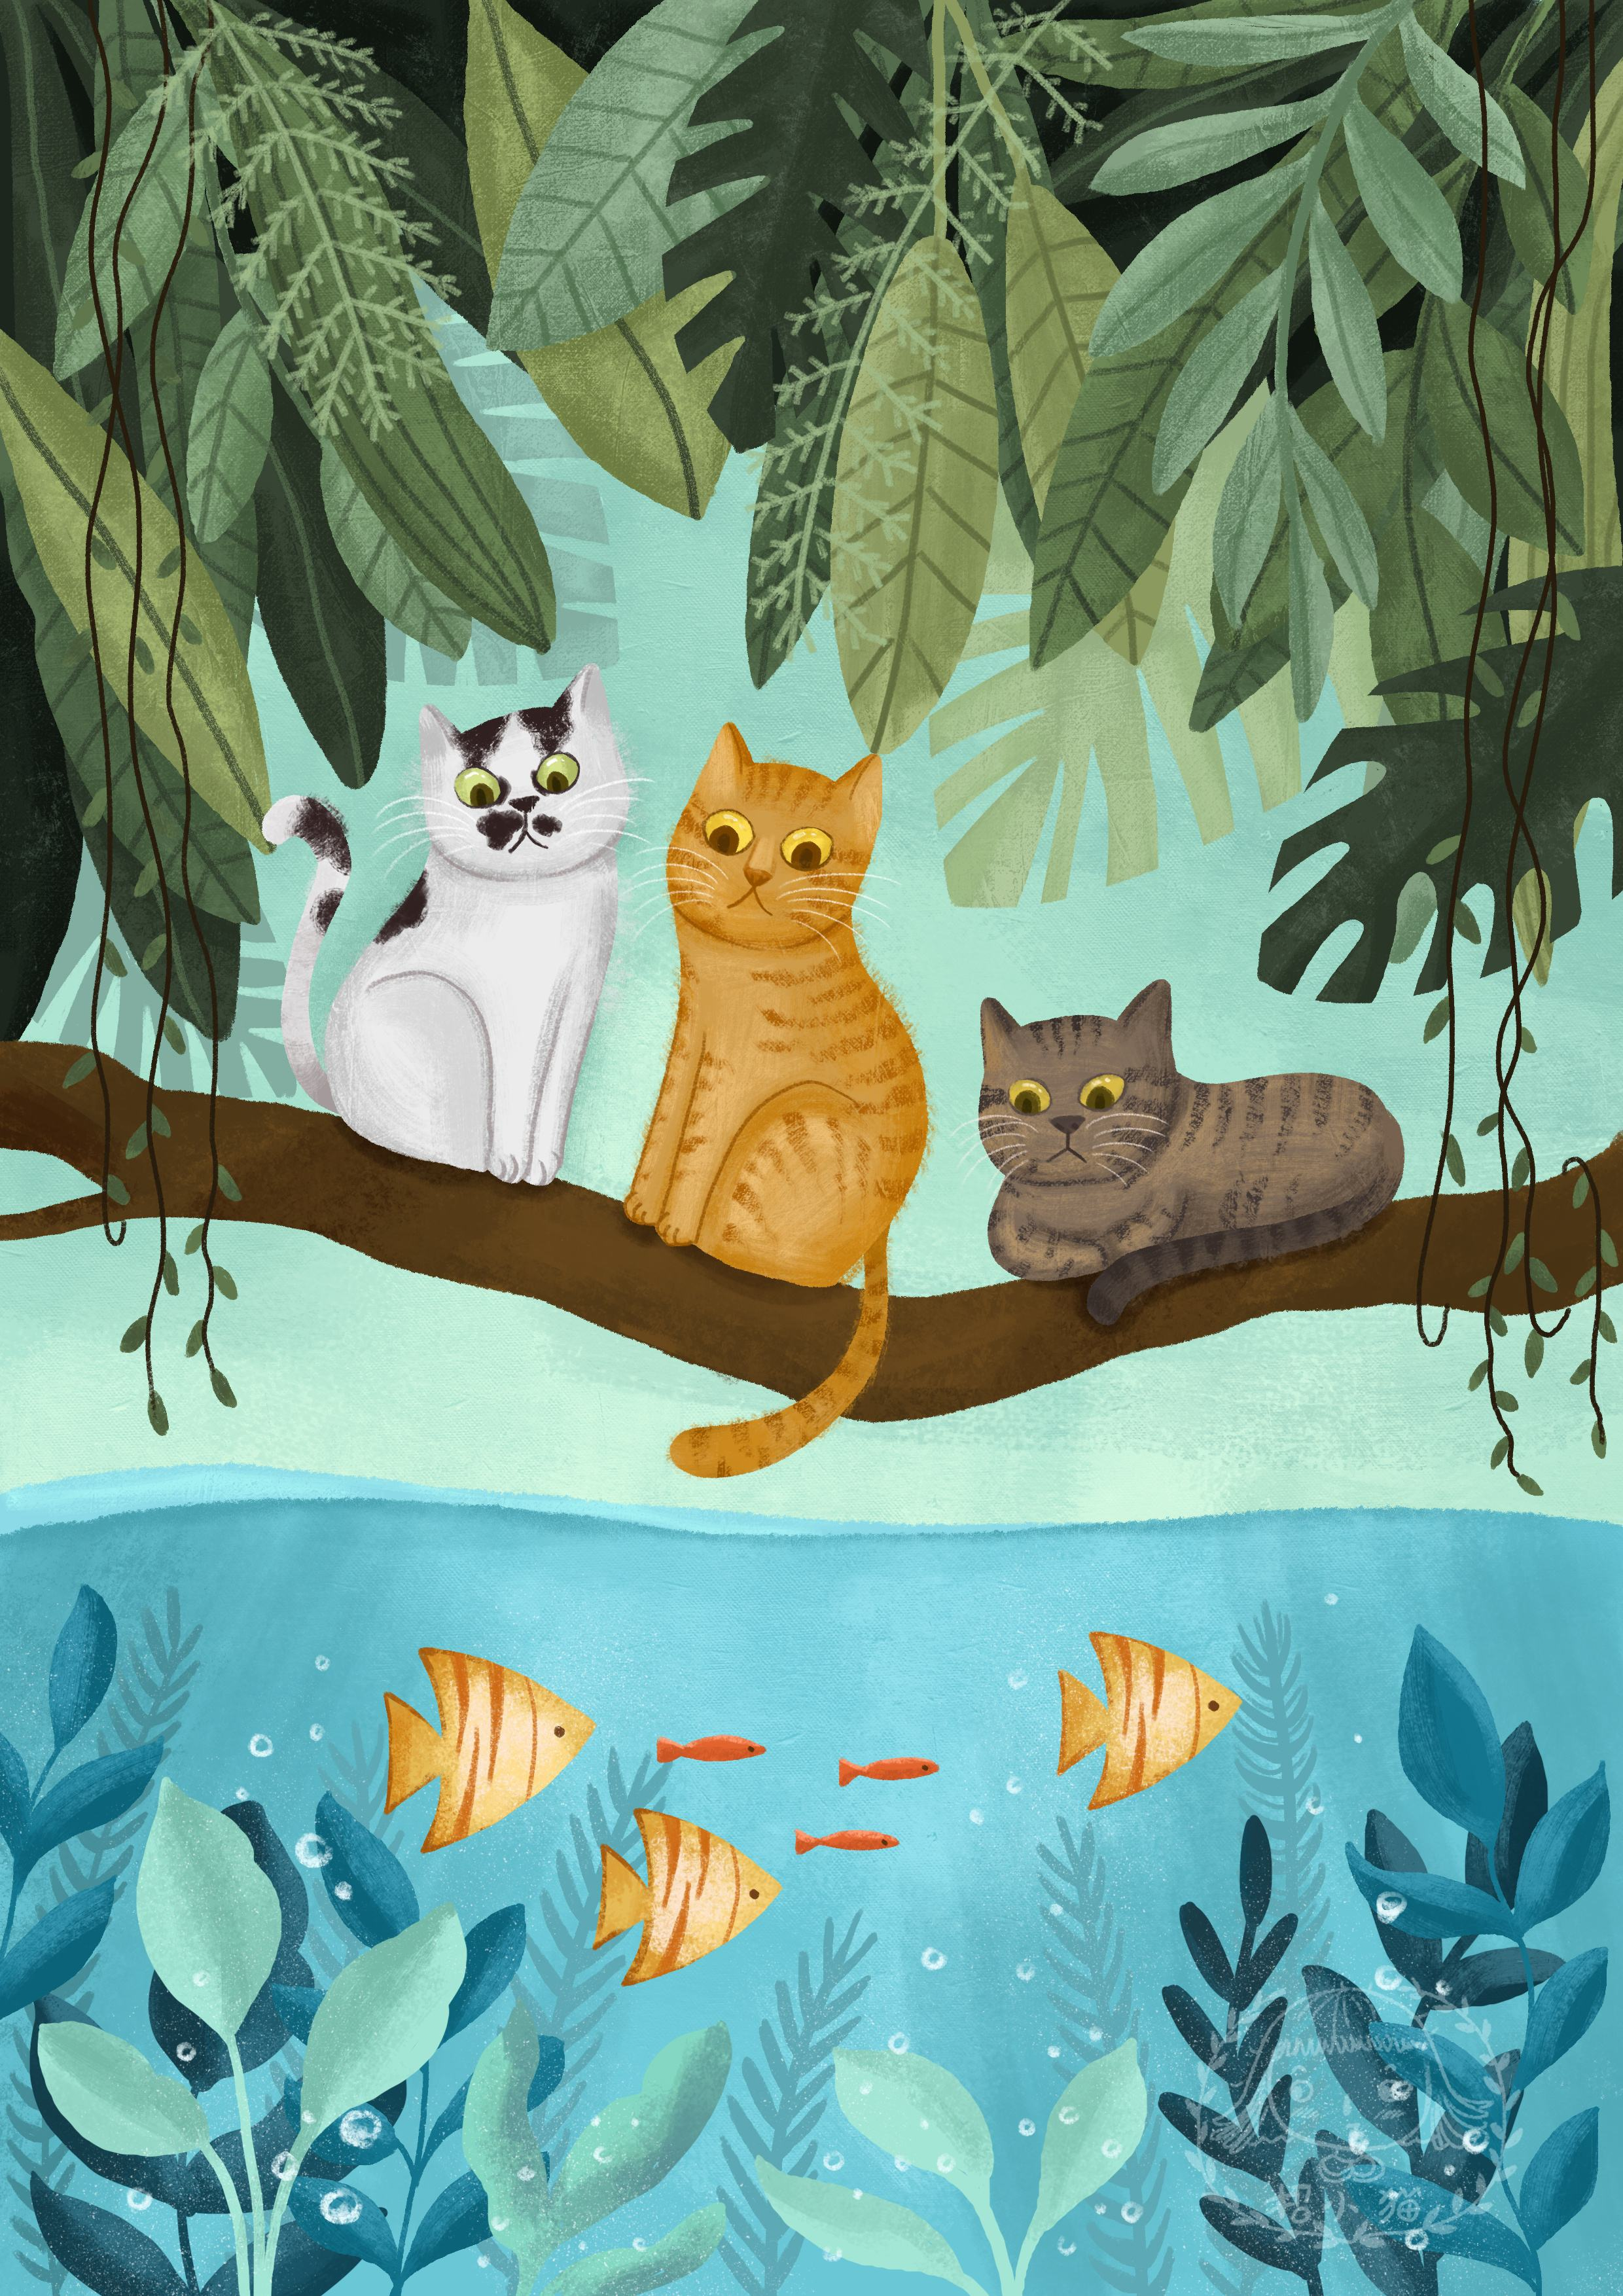cat: (636, 724, 934, 1477), (230, 650, 627, 1196), (973, 968, 1412, 1323)
